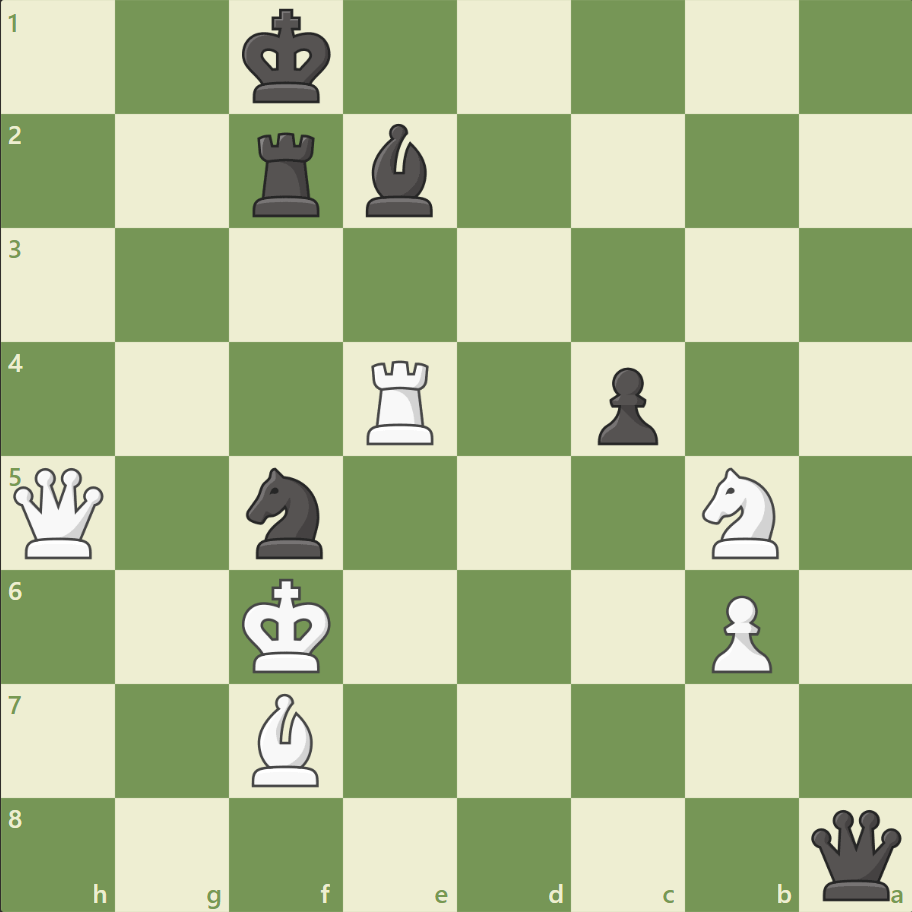B: (251, 693, 330, 796)
K: (242, 580, 340, 682)
N: (700, 467, 789, 568)
P: (709, 589, 781, 674)
Q: (14, 467, 115, 568)
R: (365, 354, 443, 454)
b: (365, 125, 443, 229)
k: (242, 13, 340, 114)
n: (246, 467, 335, 568)
p: (596, 362, 668, 447)
q: (808, 807, 909, 909)
r: (251, 127, 330, 227)
